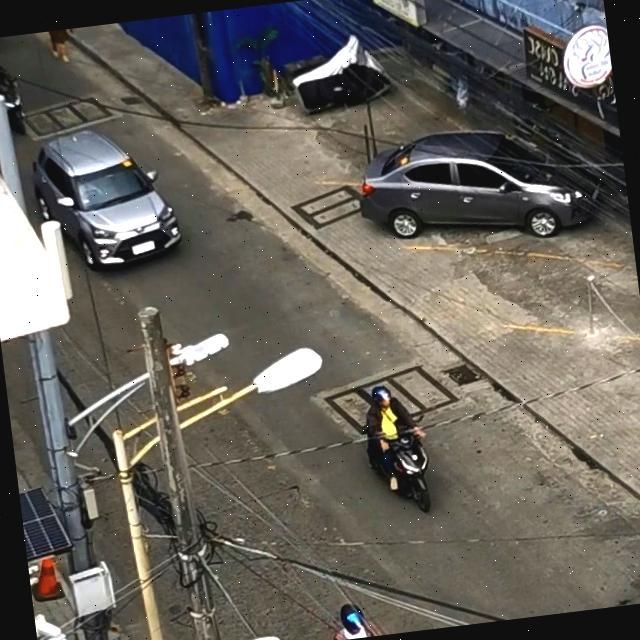Bike: (324, 600, 398, 640)
